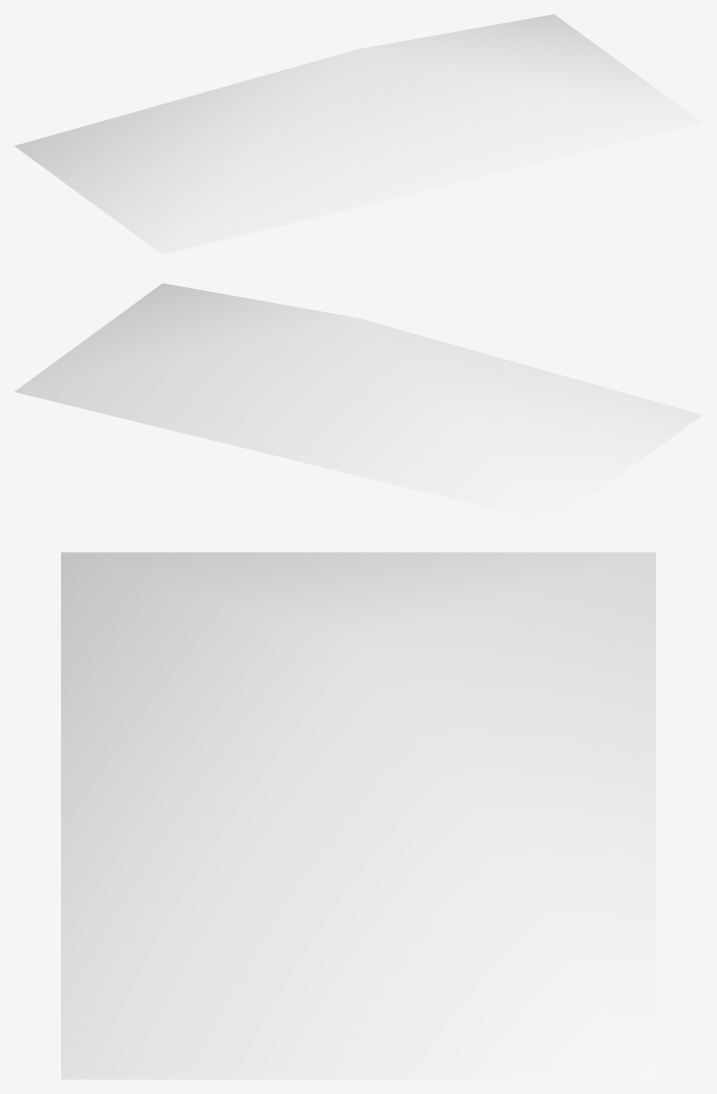
3 views of the same model, one above another, from view 1: azimuth 30°, elevation 25°; view 2: azimuth 150°, elevation 25°; view 3: azimuth 270°, elevation 25° (orthographic). The views are drawn at different scales.
Parts seen in each view (by area): view 1: FX_Plane; view 2: FX_Plane; view 3: FX_Plane.
Part boxes in pixels (<box>): FX_Plane: <box>14,14,702,254</box>; FX_Plane: <box>14,283,702,523</box>; FX_Plane: <box>61,552,655,1079</box>.
Bounding box in the file's own units: 5.5 × 0.8312 × 2.62.
Materials: 1 (1 with a texture image).
